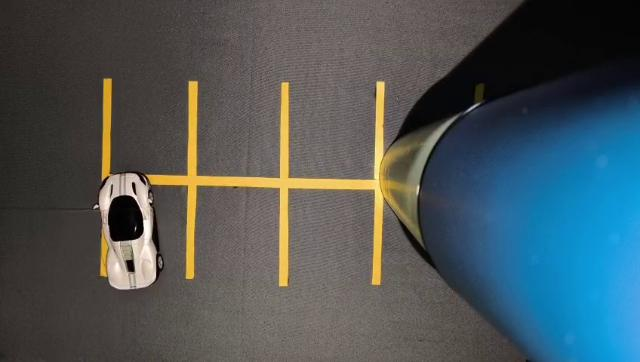toy_car: (89, 159, 192, 322)
